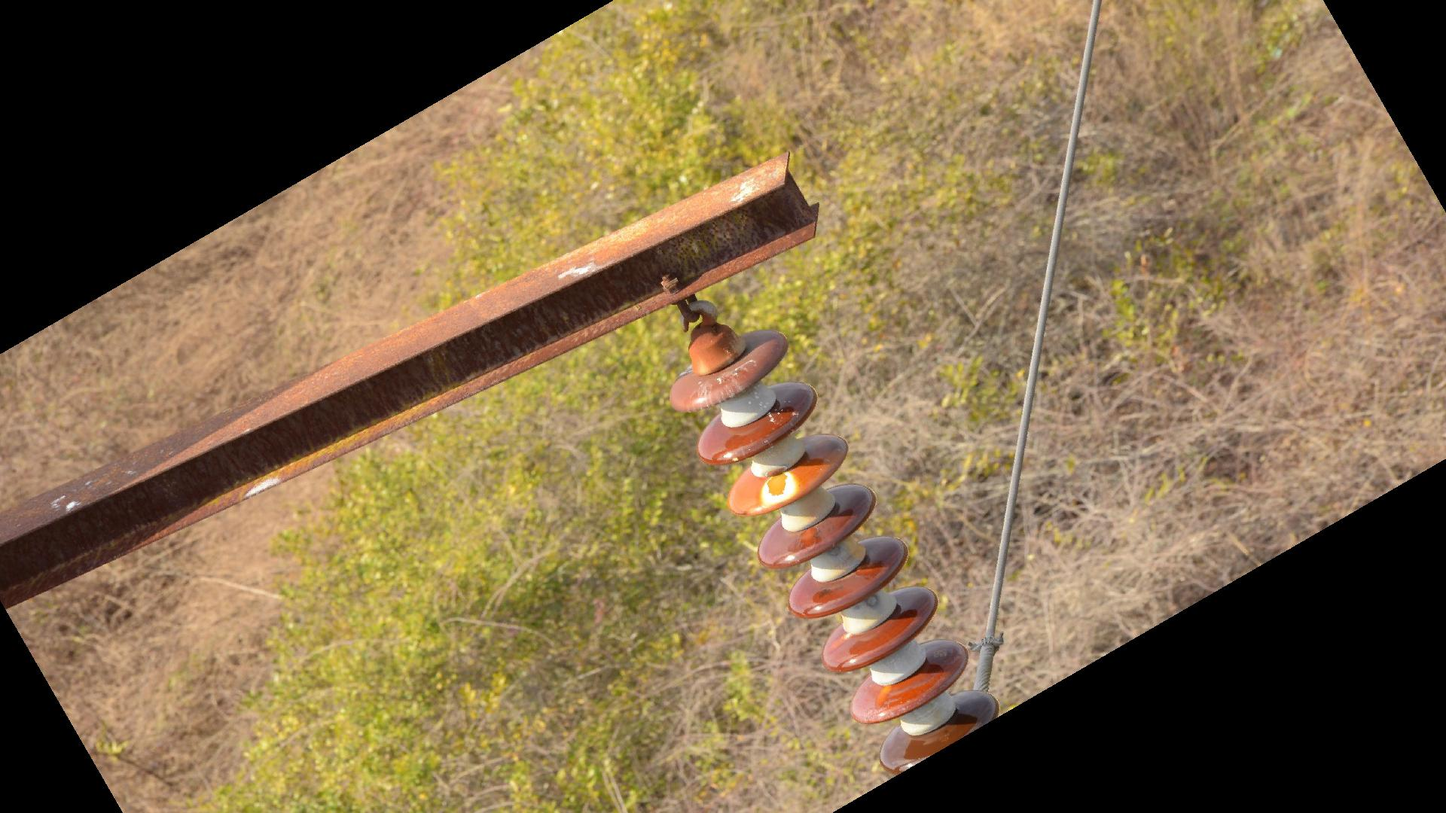insulator: (664, 323, 1004, 777)
insulator_flashover: (755, 467, 800, 513)
